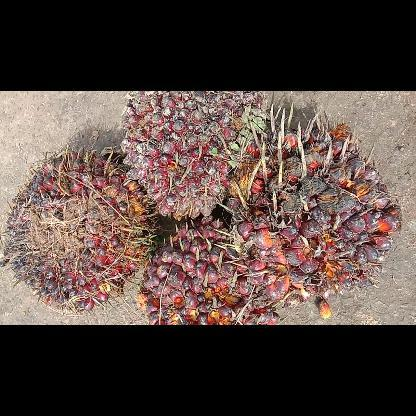Kurang masak: (0, 144, 157, 315), (120, 92, 270, 222)
TBS masak: (226, 102, 404, 302), (138, 212, 292, 324)
